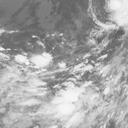cyclone: (32, 32, 105, 105)
